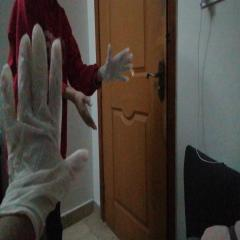gloved: (0, 22, 63, 212), (100, 43, 133, 82)
not-gloved: (70, 88, 96, 130)
